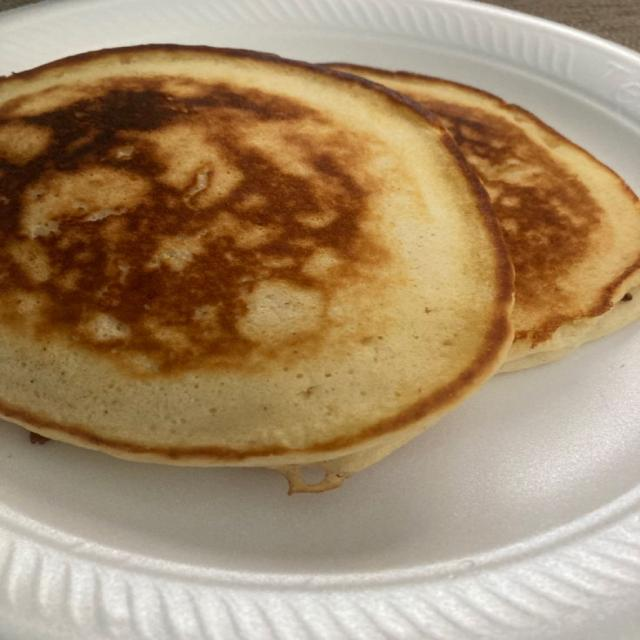pancake: (0, 46, 513, 490), (330, 64, 639, 370)
